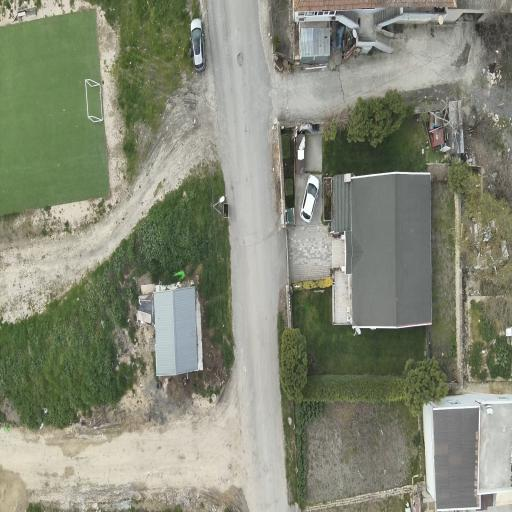car: (300, 175, 319, 222), (190, 19, 205, 71)
